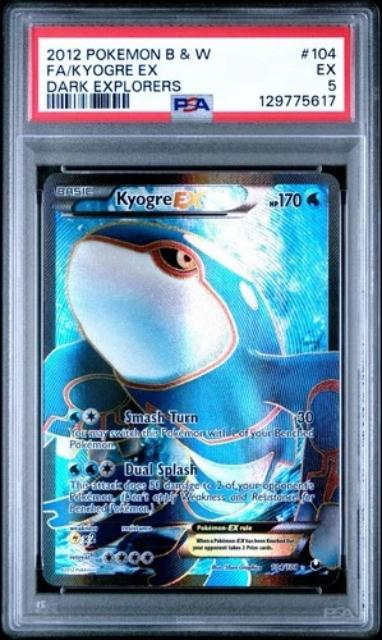Card: (37, 166, 348, 593)
Name: (110, 186, 224, 213)
